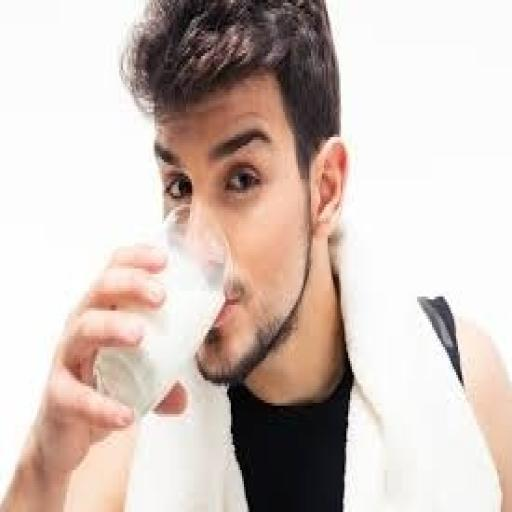drinking: (89, 210, 229, 422)
